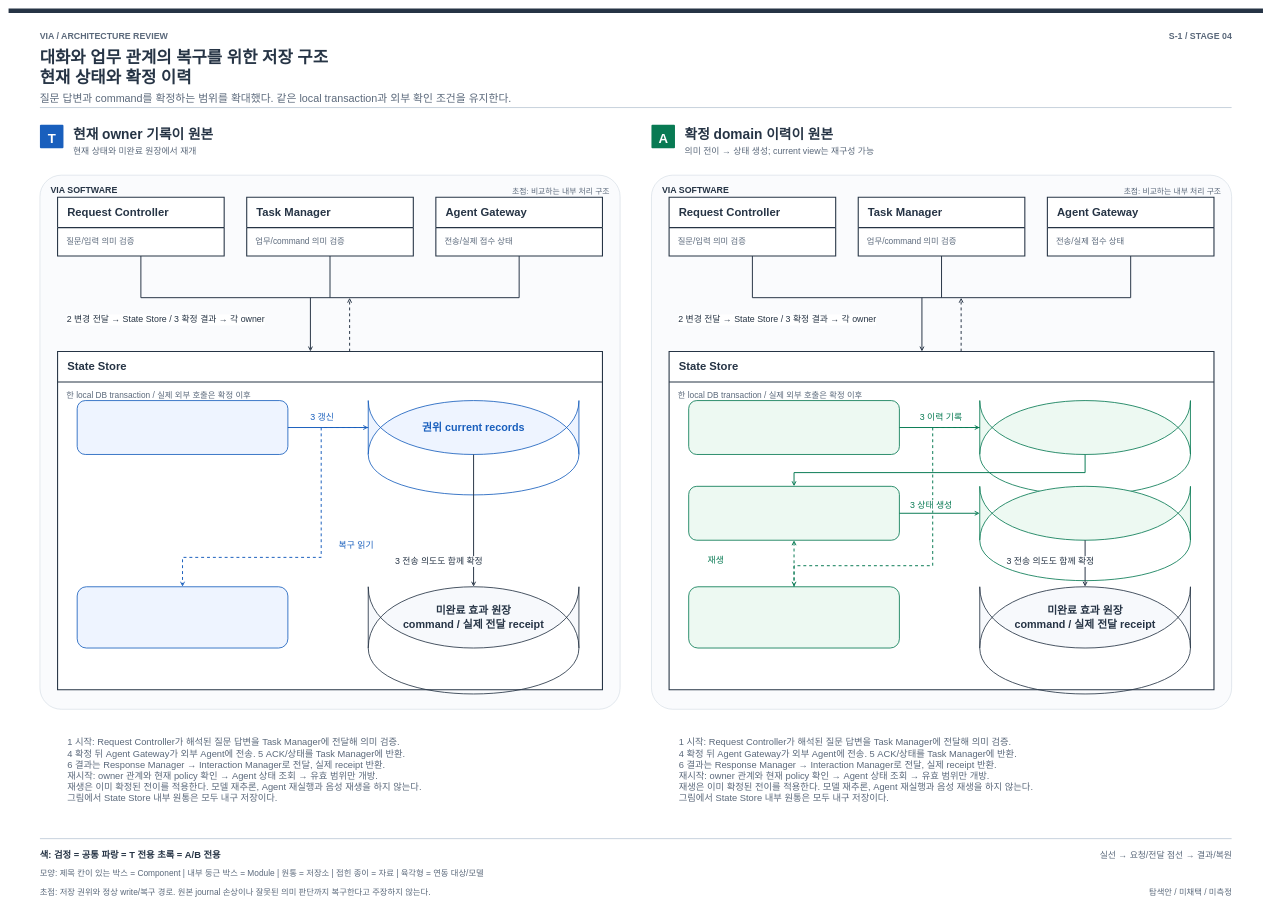
The diagram is 1271 pixels wide and 908 high, and some of its shapes have lost their labels. Here are the shapes that lost their labels. From the top down, the centre of each, then its label:
pixel 182 427: 현재 상태 갱신기
pixel 794 427: Journal Append 의미 전이 batch 확정
pixel 1085 427: 권위 Domain Journal
pixel 794 513: Projection Engine versioned reducer 적용
pixel 1085 513: 파생 current projection
pixel 182 617: State Loader 현재 owner 상태 복원
pixel 794 617: Replay Engine checkpoint + committed tail
